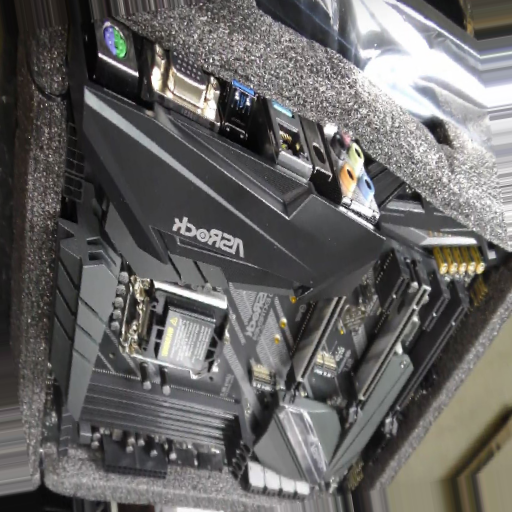CPU: (125, 278, 229, 378)
GPU: (385, 284, 474, 443), (349, 275, 432, 431), (283, 287, 346, 399)
MOTHERBOARD: (52, 25, 503, 508)
RAM: (48, 385, 254, 482)
SSD: (314, 353, 345, 382), (252, 368, 281, 393)
